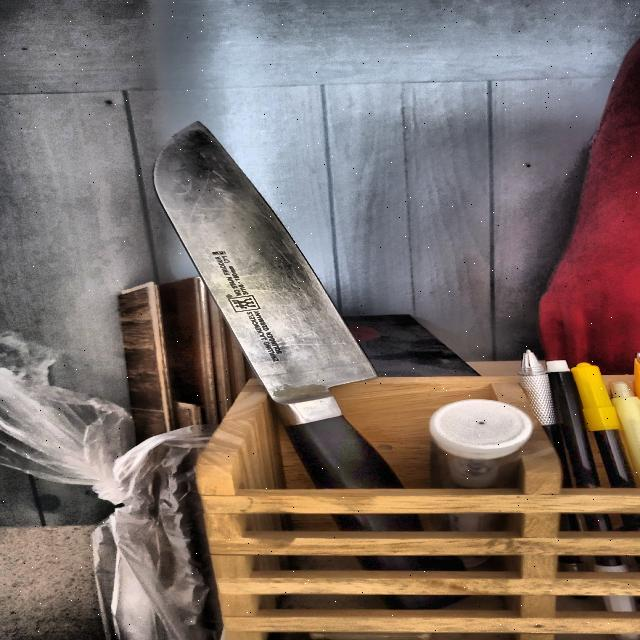knife: (145, 113, 410, 501)
